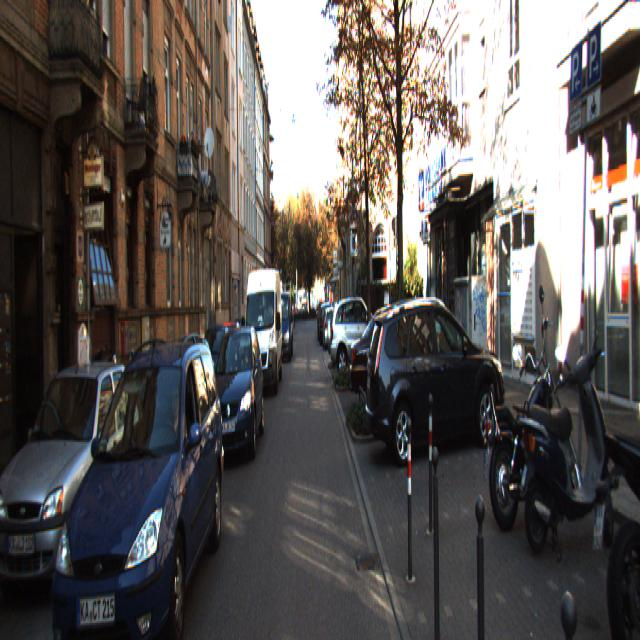Car: (42, 324, 224, 638), (0, 346, 137, 629), (364, 287, 507, 468), (514, 331, 616, 568), (480, 314, 580, 534), (592, 346, 640, 638), (350, 306, 450, 418), (206, 322, 264, 474), (242, 264, 283, 404), (327, 294, 389, 378), (270, 290, 295, 364), (322, 306, 338, 352)
